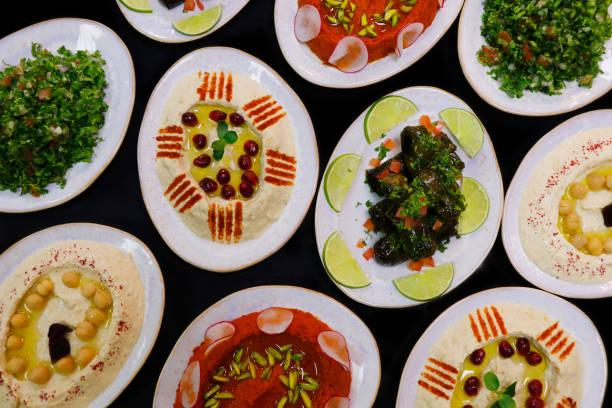Braised Crucian Carp: (313, 84, 501, 309), (137, 45, 315, 273), (0, 222, 165, 408), (150, 284, 375, 407), (2, 16, 137, 217), (390, 287, 607, 407), (501, 109, 612, 301), (457, 0, 609, 118), (274, 0, 463, 90)
